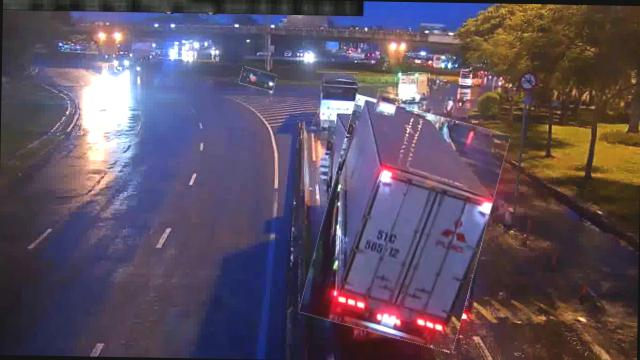Bike: (445, 96, 454, 111)
Car: (240, 68, 276, 90), (376, 90, 398, 114)
Truck: (312, 102, 499, 346), (316, 71, 360, 132), (394, 72, 430, 103)
